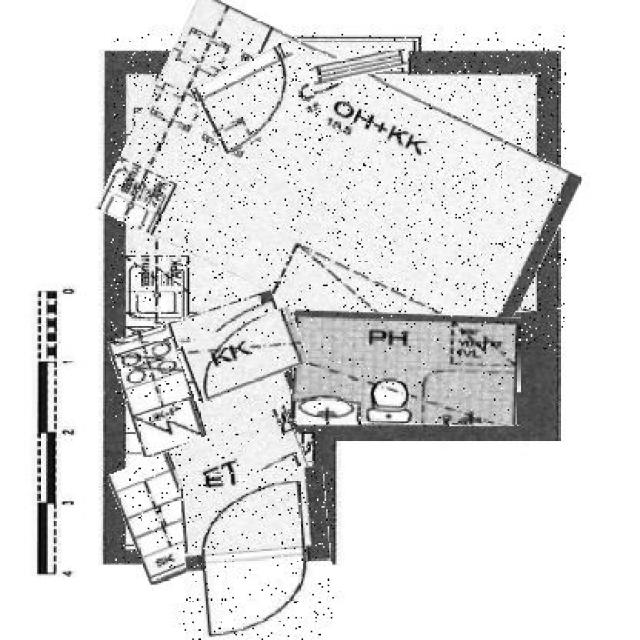door: (181, 467, 333, 640), (197, 51, 314, 146), (180, 315, 306, 394)
window: (312, 52, 408, 83)
zone: (111, 32, 566, 352), (116, 420, 322, 569), (116, 300, 302, 446), (292, 312, 520, 425)
